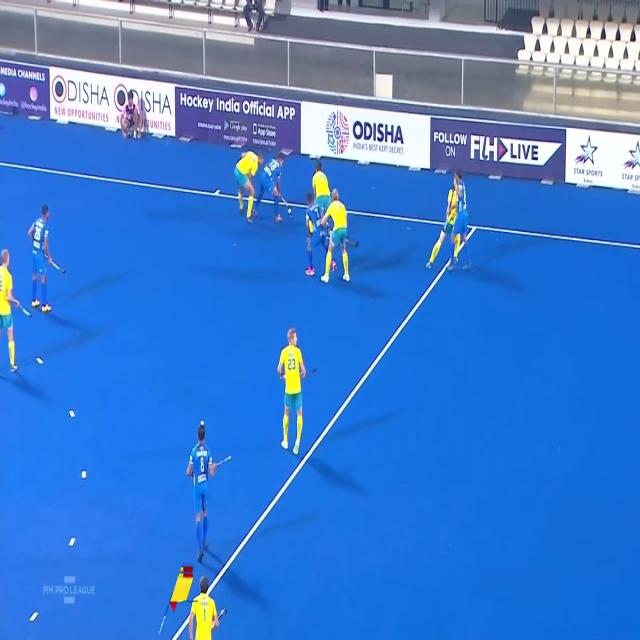ball: (285, 205, 294, 219)
